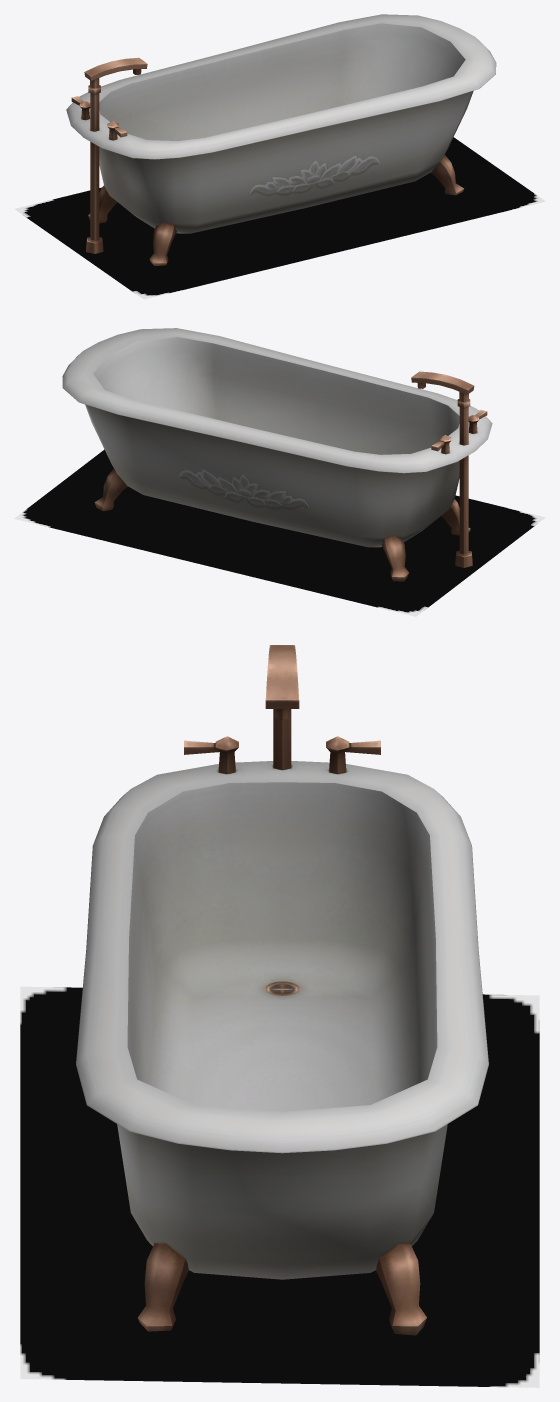
Rendered from jj_ty_bathtubs01_01.FBX.
The picture shows the model from 3 angles, top to bottom: view 1: azimuth 30°, elevation 25°; view 2: azimuth 150°, elevation 25°; view 3: azimuth 270°, elevation 25°; orthographic projection. The views are drawn at different scales.
Parts seen in each view (by area): view 1: jj_ty_bathtubs01_01, yiying; view 2: jj_ty_bathtubs01_01, yiying; view 3: jj_ty_bathtubs01_01, yiying.
Boxes of the visible parts, x1,y1,x2,y2 form: jj_ty_bathtubs01_01: (66, 14, 496, 265); yiying: (14, 137, 545, 299); jj_ty_bathtubs01_01: (62, 328, 492, 581); yiying: (14, 449, 545, 616); jj_ty_bathtubs01_01: (76, 645, 488, 1335); yiying: (20, 986, 539, 1387).
Bounding box in the file's own units: 82.77 × 36.14 × 46.31.
2 materials, 2 textured.
